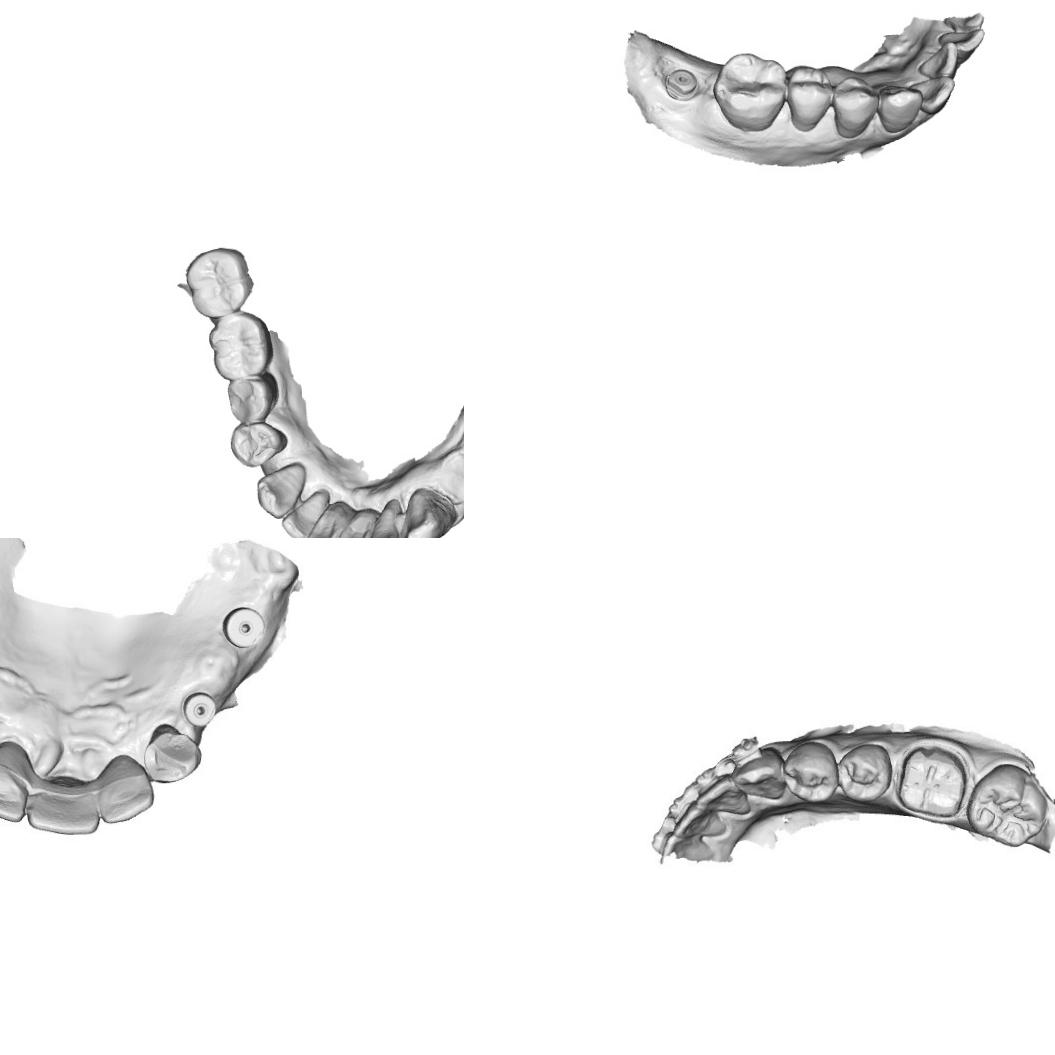canine: (398, 485, 458, 538), (255, 462, 308, 520), (149, 726, 201, 776), (876, 83, 924, 134), (734, 756, 786, 800)
crown: (890, 740, 972, 826)
implant: (222, 605, 264, 648), (178, 688, 220, 728), (663, 67, 700, 101)
incisor: (94, 752, 158, 826), (28, 779, 105, 840), (0, 743, 28, 816), (905, 75, 956, 115), (698, 779, 754, 815), (937, 28, 986, 65), (675, 806, 729, 838), (918, 40, 960, 80), (363, 497, 403, 538), (279, 500, 321, 538), (334, 510, 375, 538), (304, 508, 341, 538)
molar: (968, 763, 1044, 846), (712, 51, 788, 133), (184, 247, 255, 319), (206, 310, 274, 380)
premolar: (786, 65, 834, 132), (831, 75, 880, 138), (229, 420, 288, 469), (837, 744, 888, 800), (225, 374, 278, 426), (786, 746, 836, 800)
